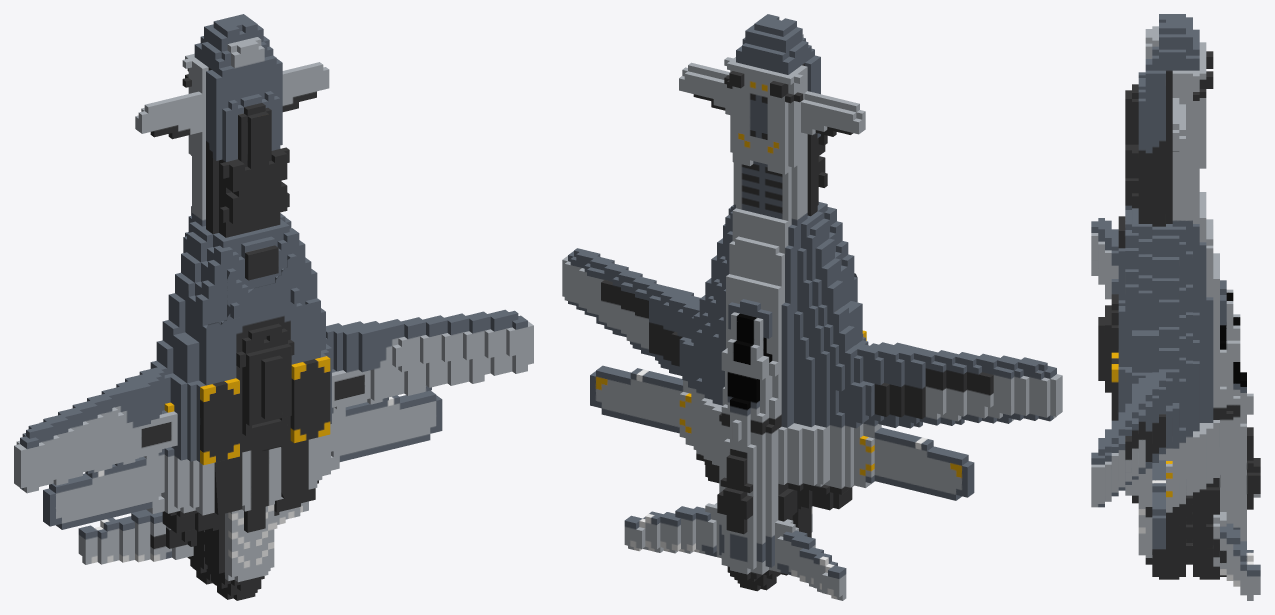
File: Spaceships_5.fbx
3 renders of one model, left to right at view 1: azimuth 30°, elevation 25°; view 2: azimuth 150°, elevation 25°; view 3: azimuth 270°, elevation 25°, orthographic. The views are drawn at different scales.
Visible parts, largest first — view 1: Spaceships_5; view 2: Spaceships_5; view 3: Spaceships_5.
Boxes of the visible parts, x1,y1,x2,y2 form: Spaceships_5: (14, 14, 533, 600); Spaceships_5: (562, 14, 1062, 600); Spaceships_5: (1091, 14, 1260, 600).
Bounding box in the file's own units: 850 × 900 × 250.
